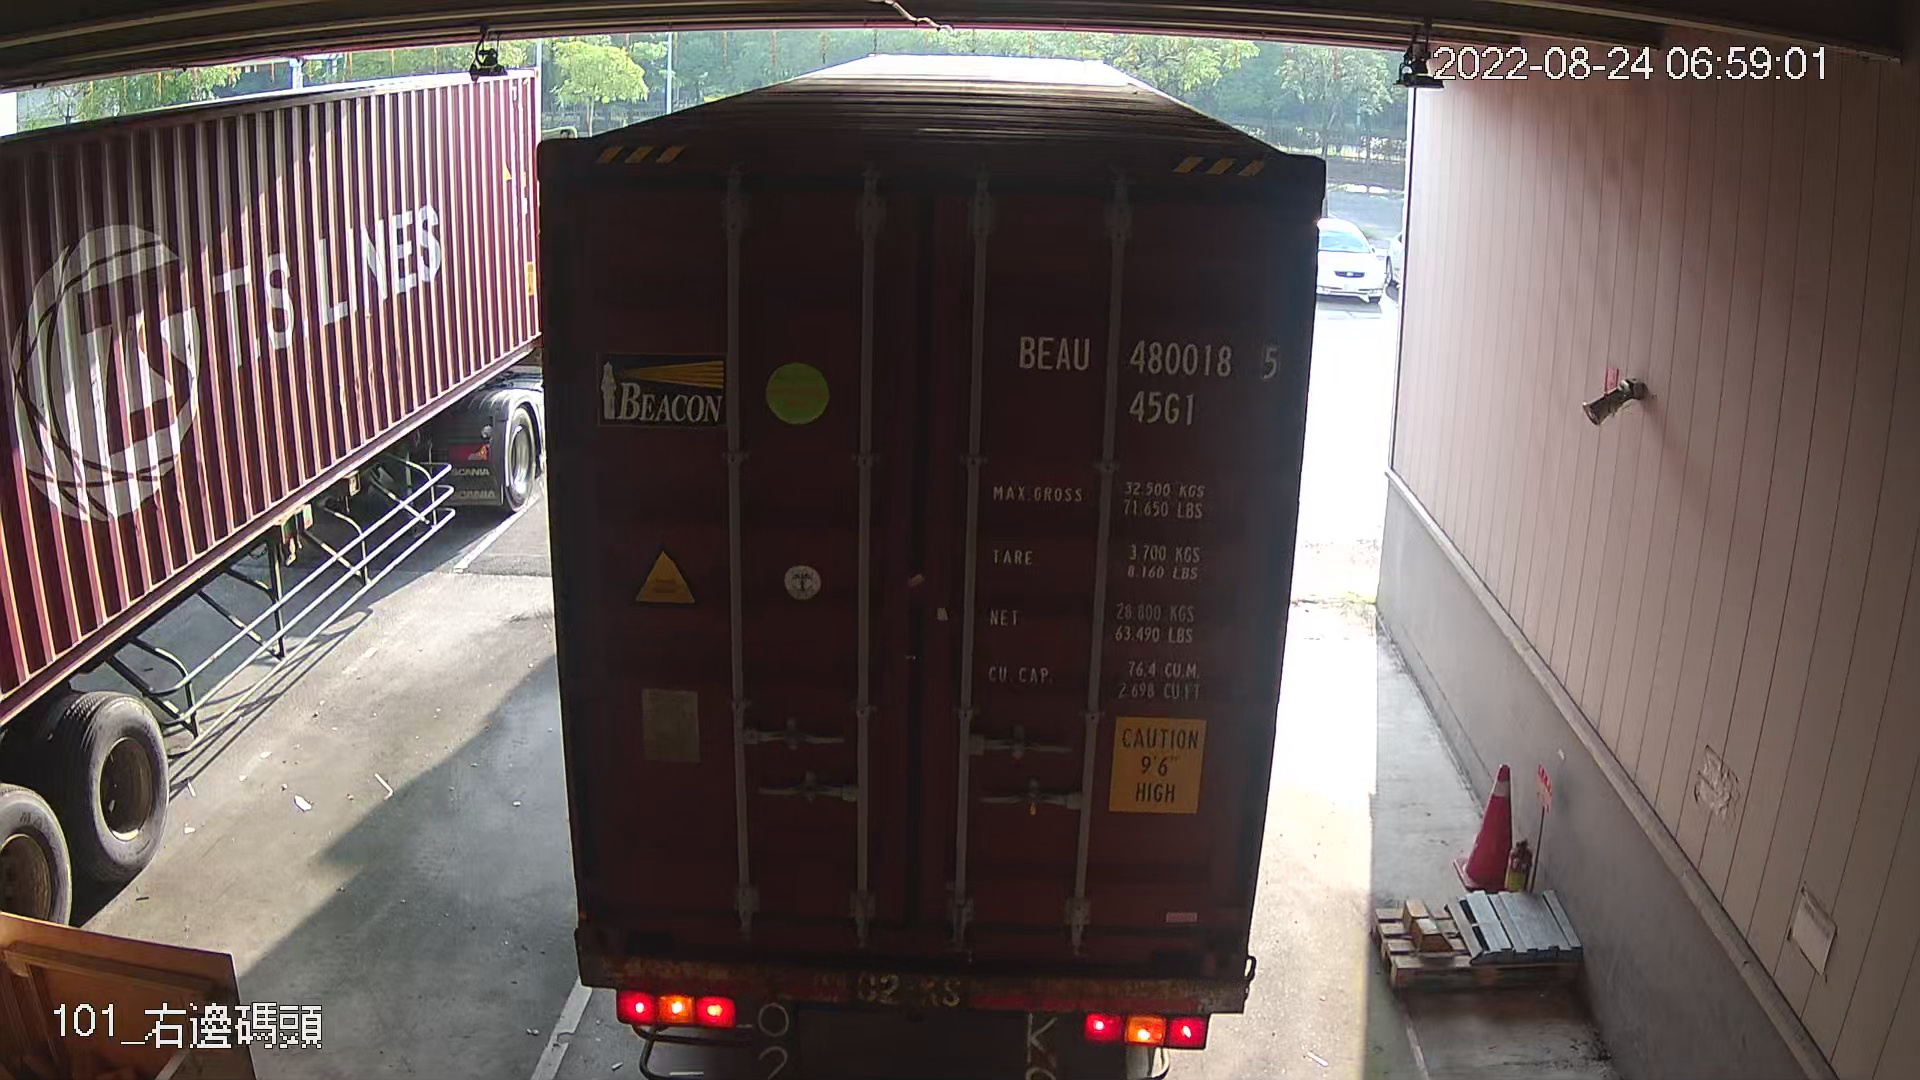container: (1007, 316, 1288, 438)
